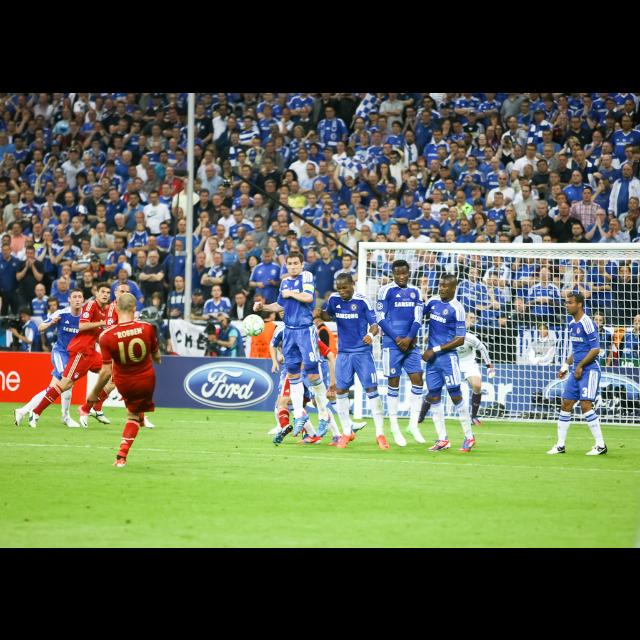Football: (240, 314, 264, 334)
